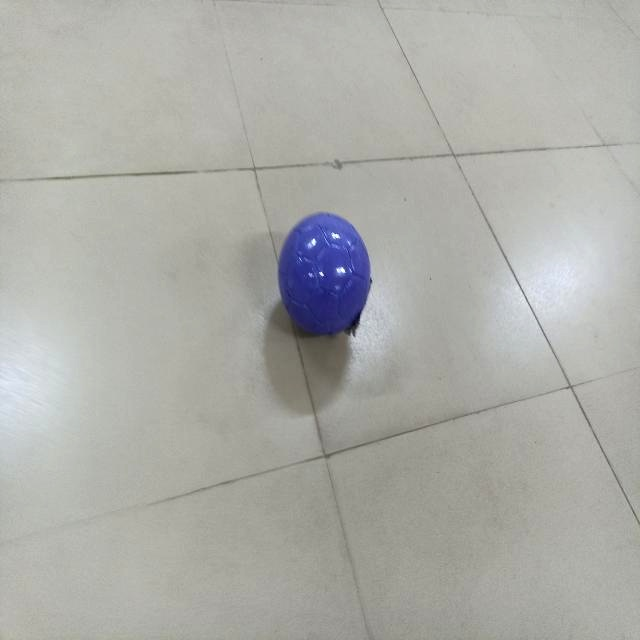purple_ball: (278, 216, 371, 336)
